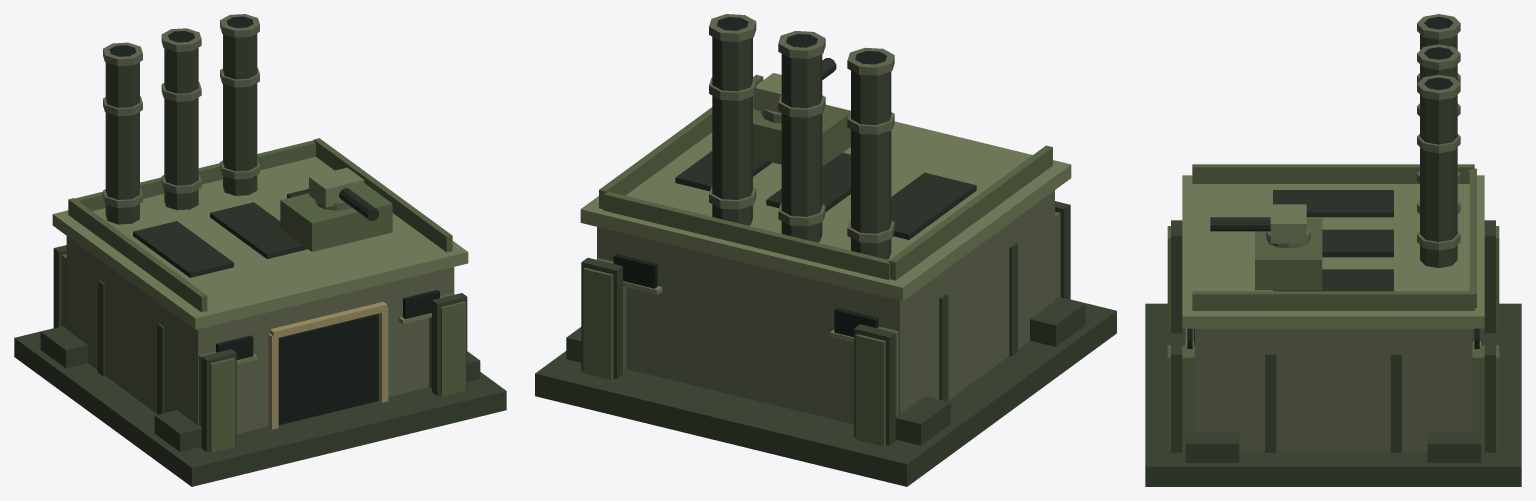
Rendered from garrison_2.obj.
The picture shows the model from 3 angles, left to right: view 1: azimuth 30°, elevation 25°; view 2: azimuth 150°, elevation 25°; view 3: azimuth 270°, elevation 25°; orthographic projection. The views are drawn at different scales.
Parts seen in each view (by area): view 1: Fortification.001; view 2: Fortification.001; view 3: Fortification.001.
Part boxes in pixels (left/top/right/bottom): Fortification.001: left=14, top=14, right=506, bottom=486; Fortification.001: left=535, top=14, right=1116, bottom=486; Fortification.001: left=1145, top=14, right=1521, bottom=486.
Size of the model in its own units: 8.6 by 8.3 by 8.4.
Materials: 1 (1 with a texture image).
